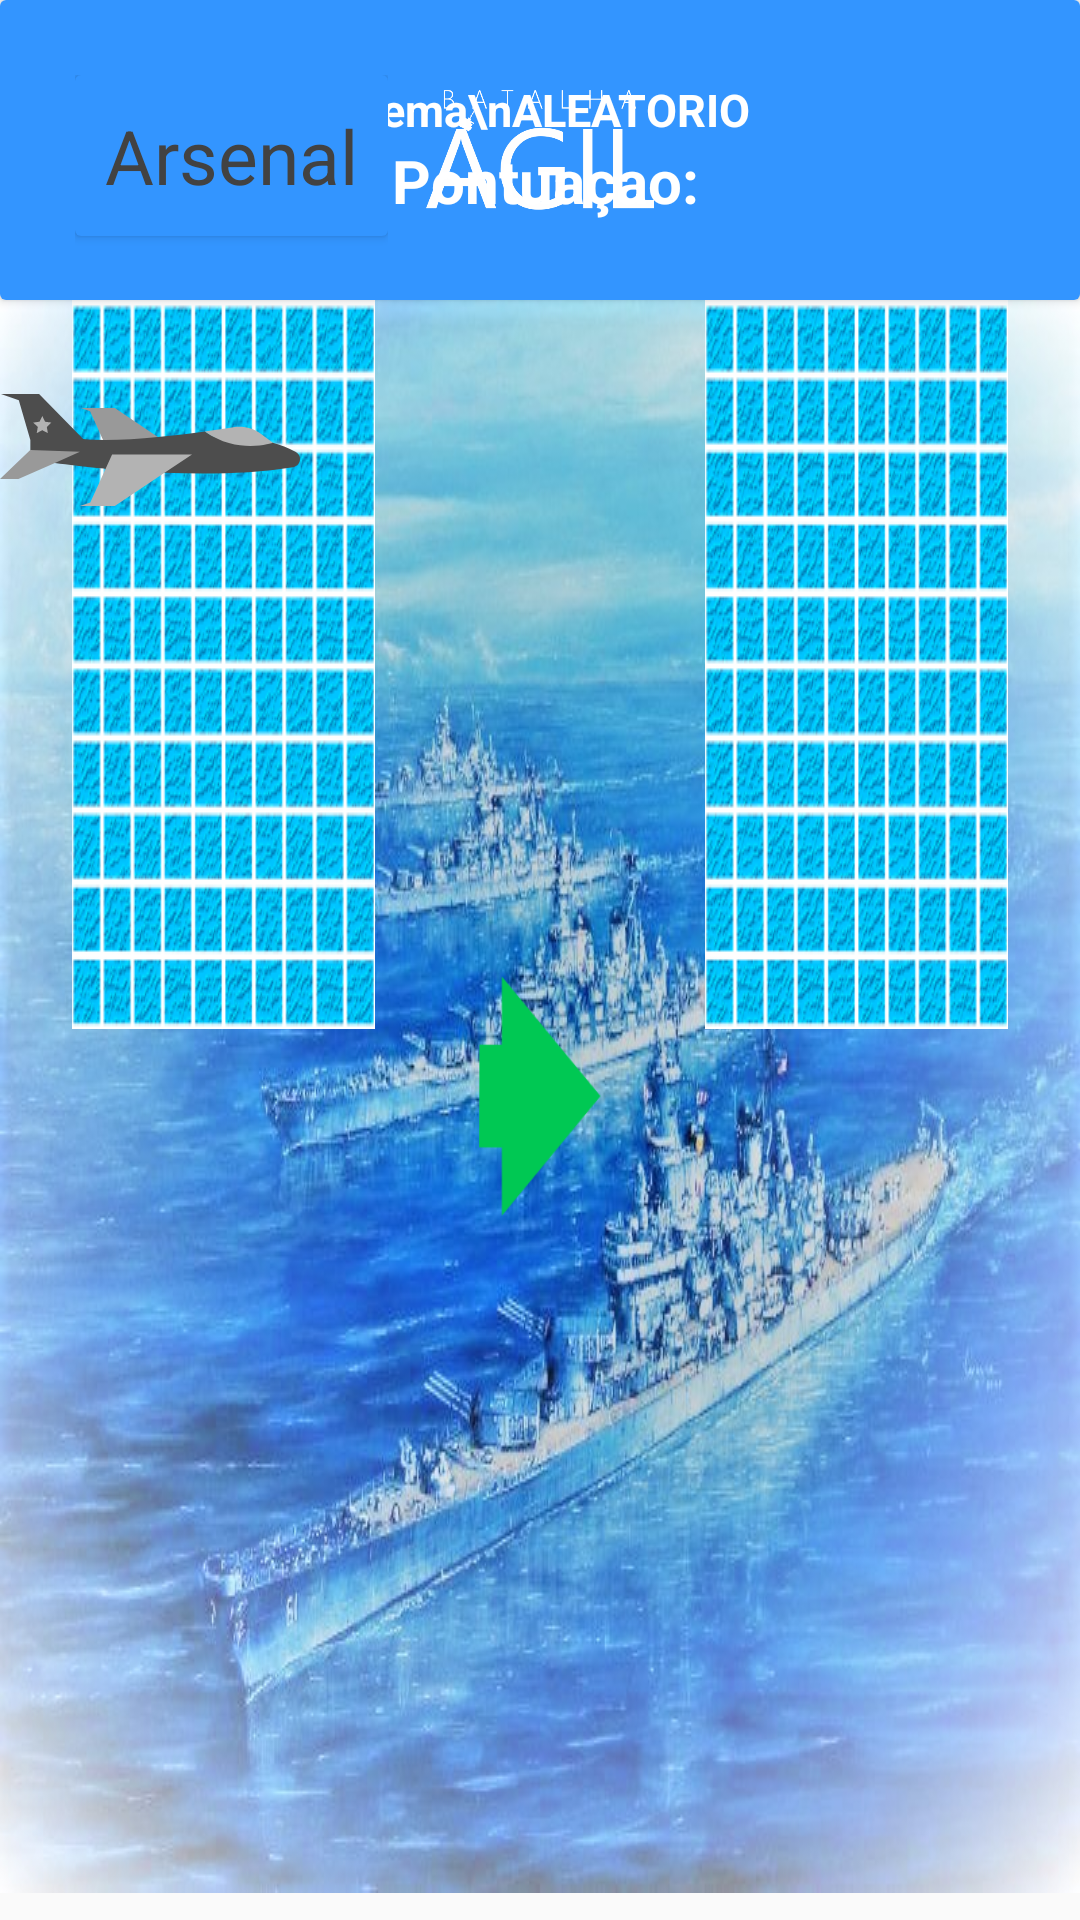

Named icons in this screenshot (1080px x 1920px) and their centers, point (x, y):
vez jogador: point (540, 1096)
